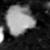node: (3, 3, 36, 38), (1, 26, 6, 44)
